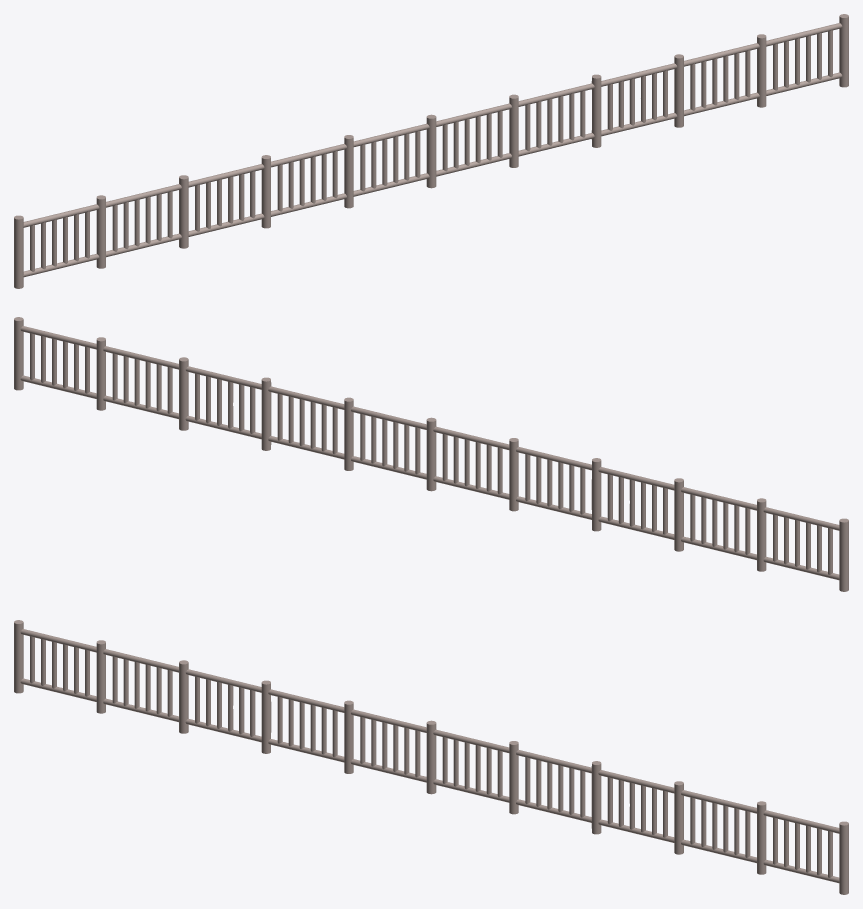
Rendered from 1028_fence_10.glb.
3 renders of one model, top to bottom at view 1: azimuth 30°, elevation 25°; view 2: azimuth 150°, elevation 25°; view 3: azimuth 330°, elevation 25°, orthographic.
Parts seen in each view (by area): view 1: Body; view 2: Body; view 3: Body.
Part boxes in pixels (x1,y1,x2,y2): Body: [14, 14, 848, 288]; Body: [14, 317, 848, 591]; Body: [14, 620, 848, 894].
Size of the model in its own units: 15.15 by 1.21 by 0.15.
